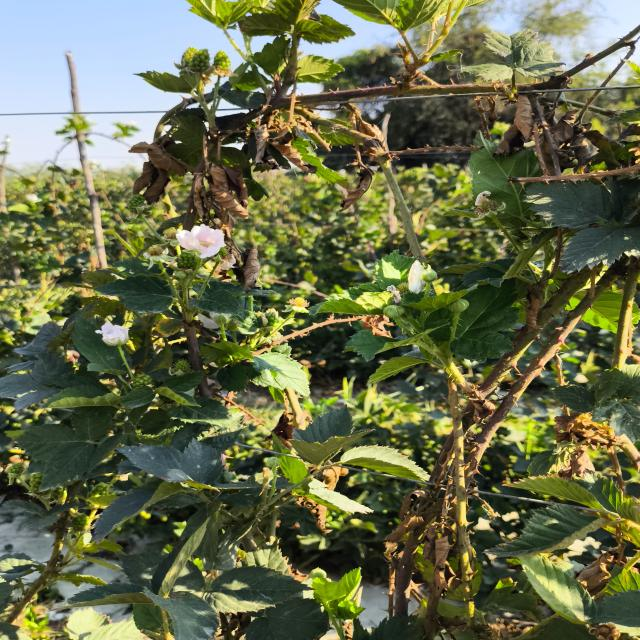boton: (447, 298, 469, 314), (383, 304, 405, 319), (422, 265, 437, 282)
flor: (176, 224, 224, 259), (95, 322, 128, 346)
